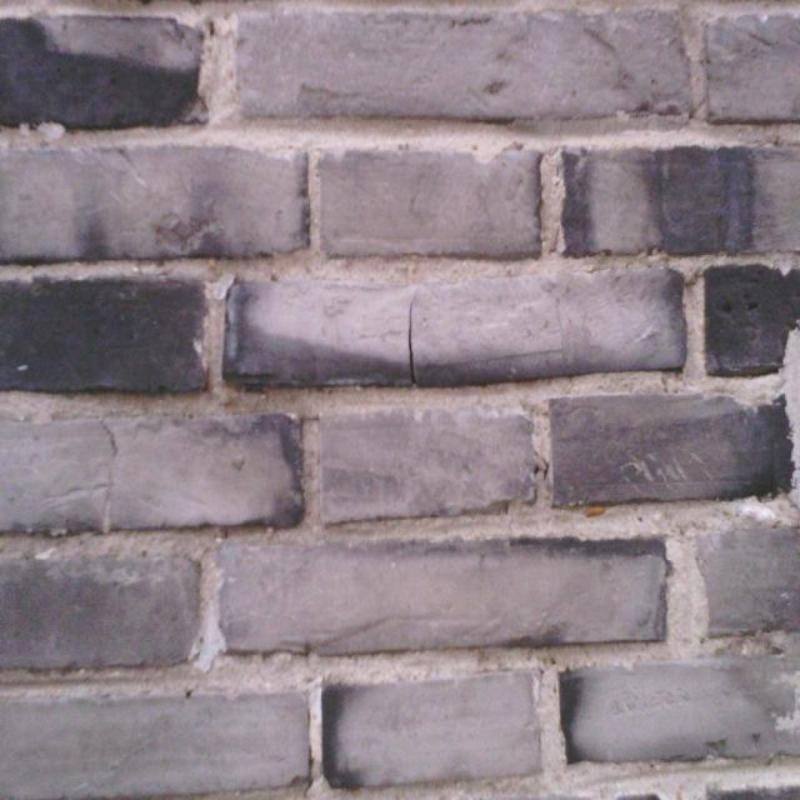pothole: (409, 298, 417, 385)
